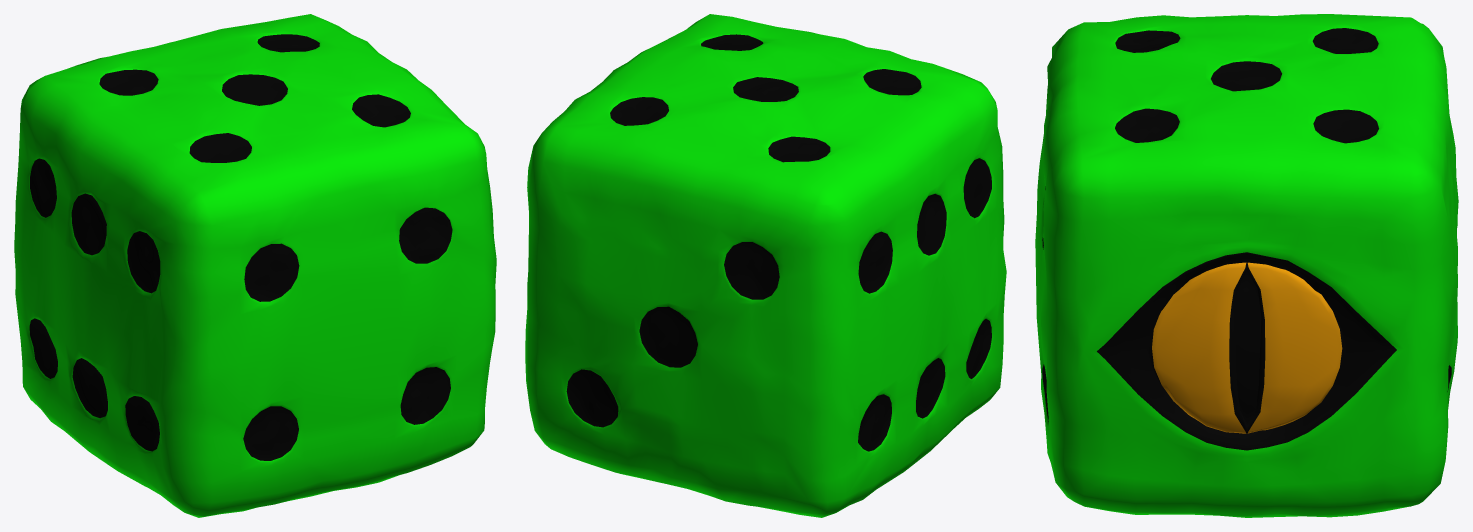
Rendered from fuzzyDice-v095-exported_dice.fbx.
3 views of the same model, side by side, from view 1: azimuth 30°, elevation 25°; view 2: azimuth 150°, elevation 25°; view 3: azimuth 270°, elevation 25° (orthographic). The views are drawn at different scales.
Parts seen in each view (by area): view 1: softDice6; view 2: softDice6; view 3: softDice6.
Boxes of the visible parts, bbox=[...] form: softDice6: bbox=[14, 14, 496, 517]; softDice6: bbox=[525, 14, 1006, 517]; softDice6: bbox=[1035, 14, 1458, 517].
Size of the model in its own units: 2.74 by 2.76 by 2.73.
